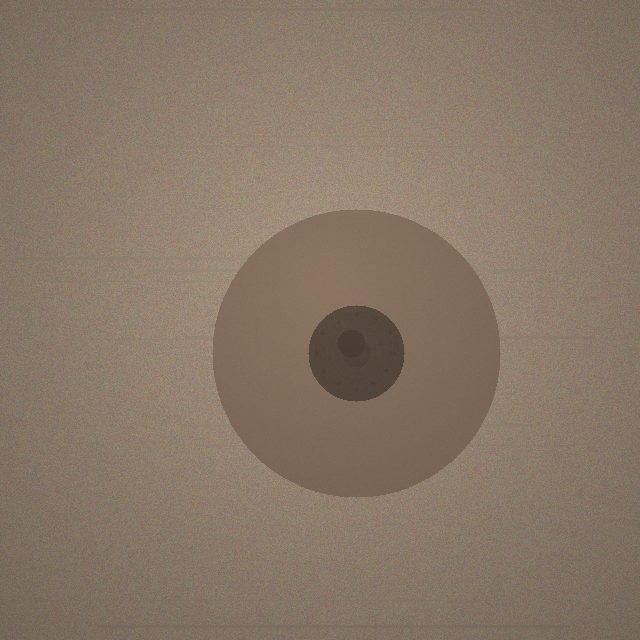cold_weld: (212, 209, 500, 497)
